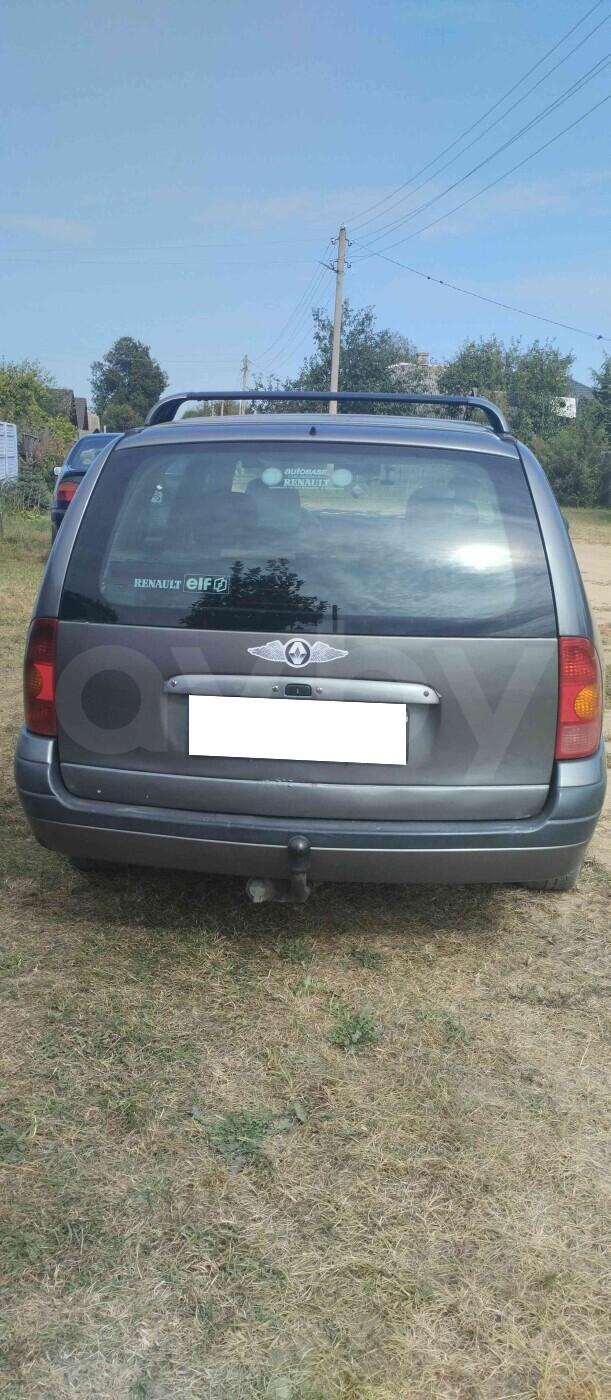Megane_1999-2003: (26, 408, 611, 918)
